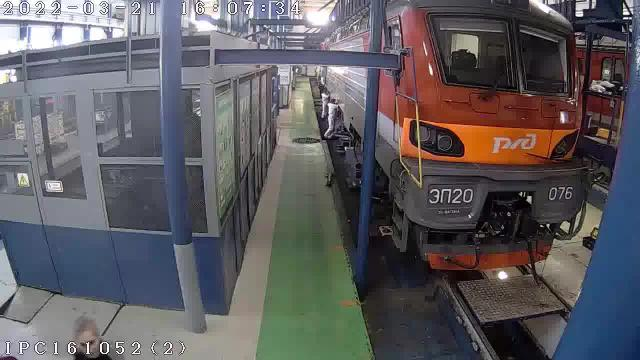person: (73, 315, 123, 359), (324, 99, 338, 138), (321, 89, 330, 119)
train: (376, 0, 588, 269)
